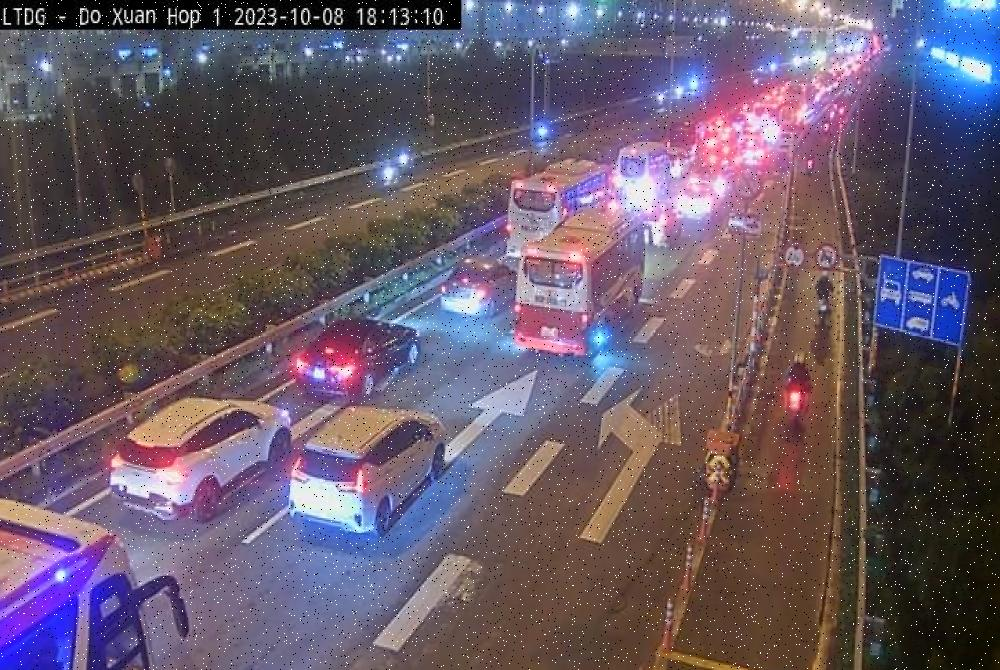bus: (0, 498, 218, 670), (512, 164, 660, 361), (500, 147, 617, 244)
car: (108, 397, 296, 534), (292, 404, 452, 540), (287, 316, 426, 407), (438, 259, 515, 318)
